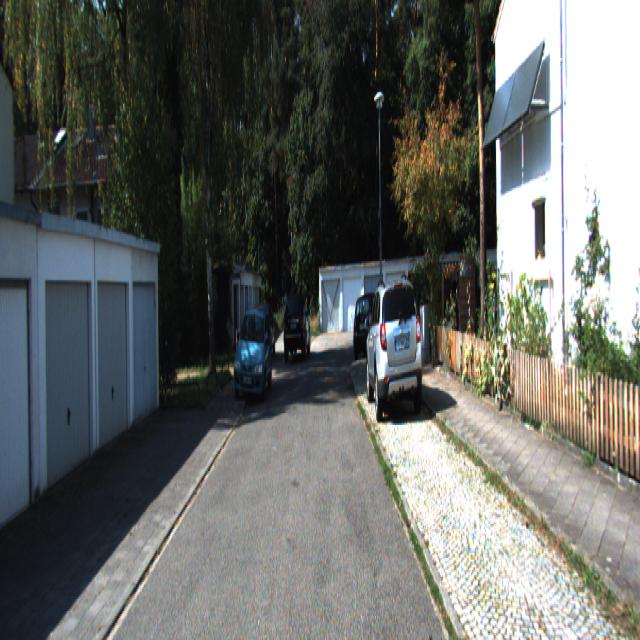Car: (364, 277, 422, 424), (234, 306, 272, 401), (353, 290, 384, 357), (284, 295, 311, 362)
